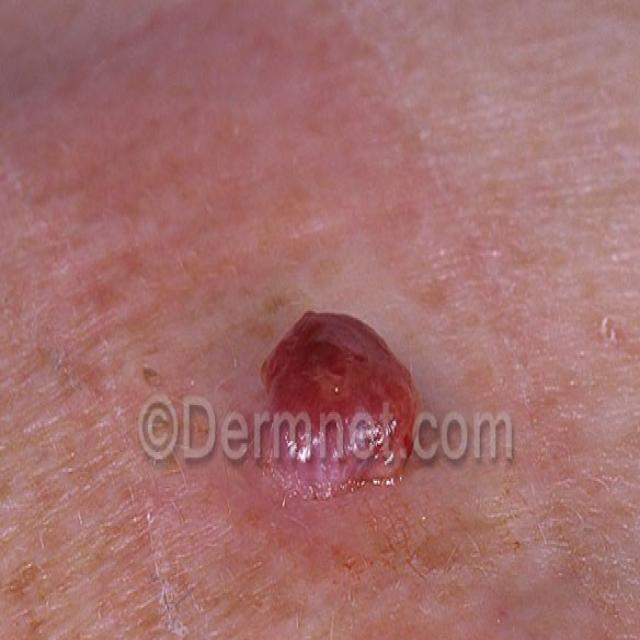Vascular Tumors: (258, 282, 421, 507)
